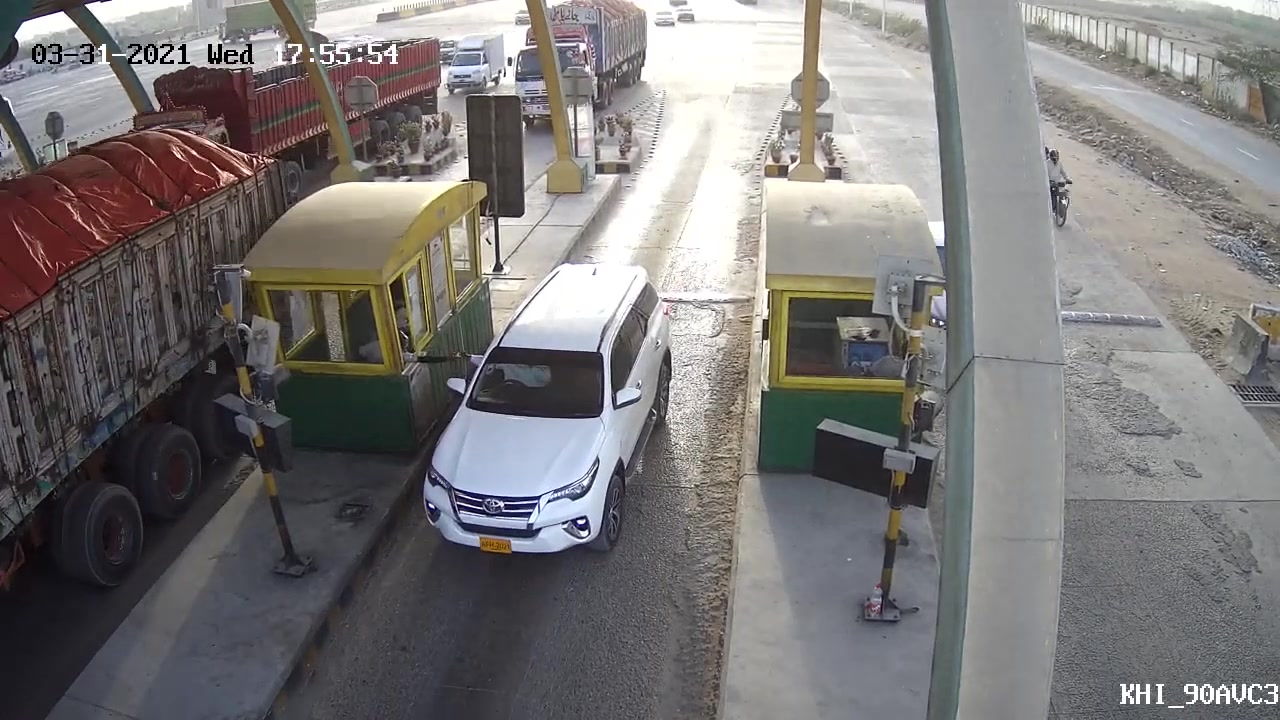F1: (416, 260, 684, 570)
